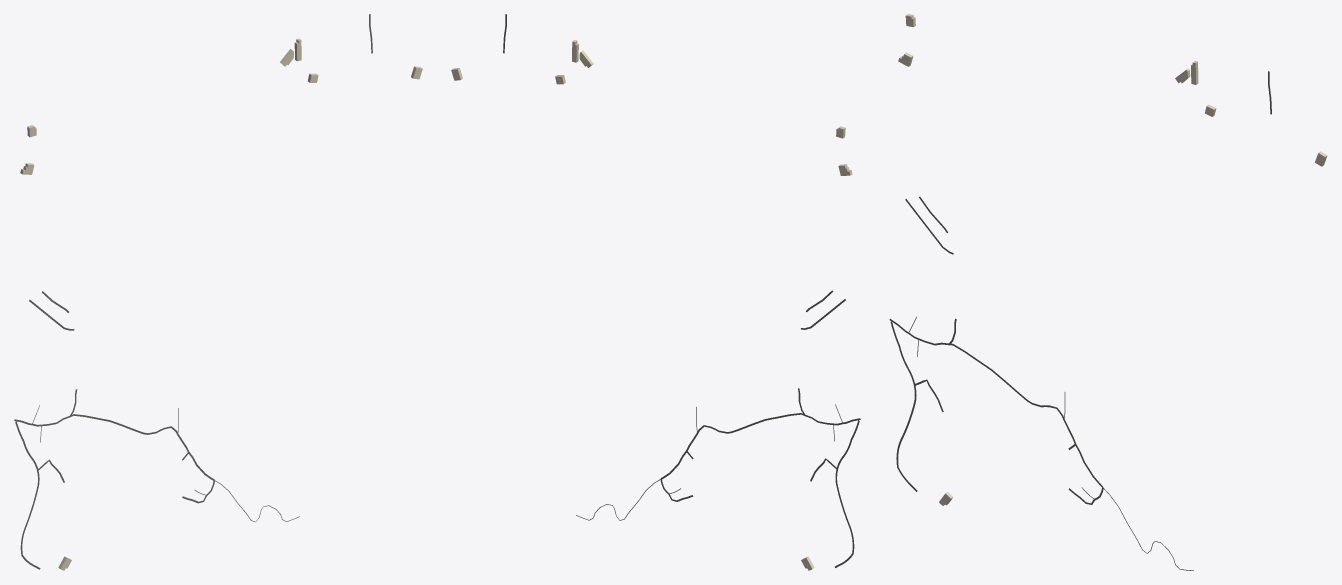
The model's file is historic-palestine-07_20_3494_3146.glb.
3 views of the same model, side by side, from view 1: azimuth 30°, elevation 25°; view 2: azimuth 150°, elevation 25°; view 3: azimuth 330°, elevation 25° (orthographic). The views are drawn at different scales.
Parts seen in each view (by area): view 1: Road .005; view 2: Road .005; view 3: Road .005.
Part boxes in pixels (bbox=[...]): Road .005: bbox=[14, 414, 214, 480]; Road .005: bbox=[661, 413, 860, 479]; Road .005: bbox=[889, 319, 1102, 487].
Size of the model in its own units: 824 by 939 by 8.7.
